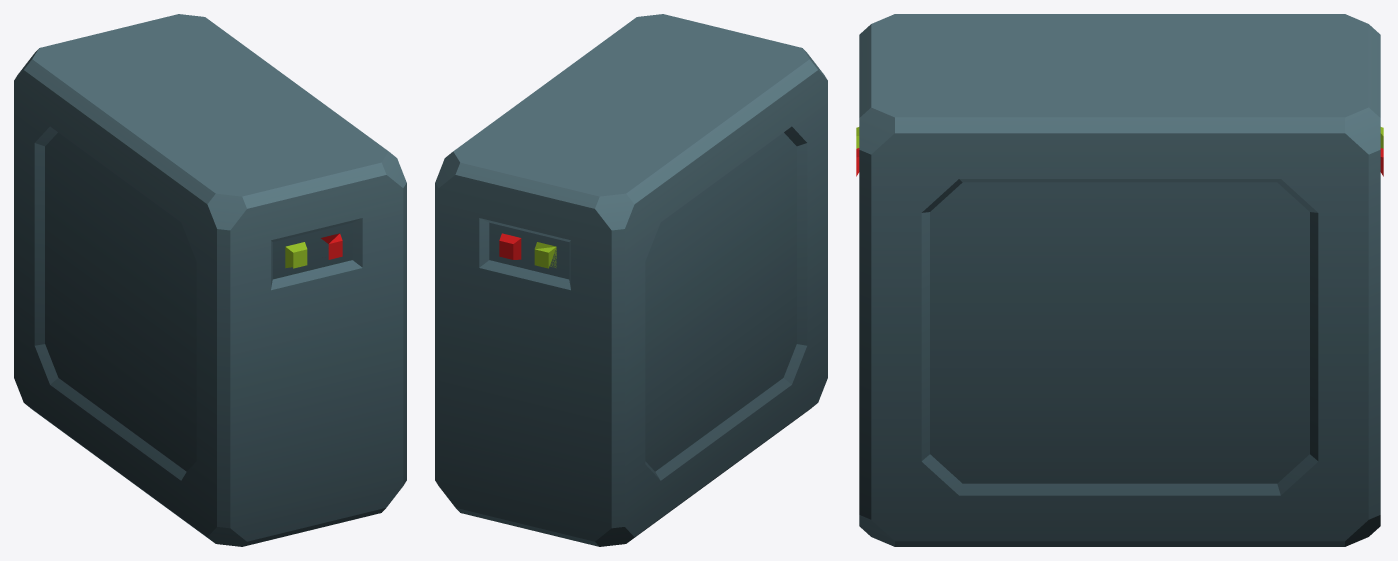
The model's file is Delivery_drone_011_crate_001.fbx.
3 views of the same model, side by side, from view 1: azimuth 30°, elevation 25°; view 2: azimuth 150°, elevation 25°; view 3: azimuth 270°, elevation 25° (orthographic). The views are drawn at different scales.
Parts seen in each view (by area): view 1: Delivery_drone_011_crate_001; view 2: Delivery_drone_011_crate_001; view 3: Delivery_drone_011_crate_001.
Part boxes in pixels (x1,y1,x2,y2): Delivery_drone_011_crate_001: [14, 14, 406, 546]; Delivery_drone_011_crate_001: [435, 14, 827, 546]; Delivery_drone_011_crate_001: [856, 14, 1383, 546].
Size of the model in its own units: 34 by 66.74 by 60.
